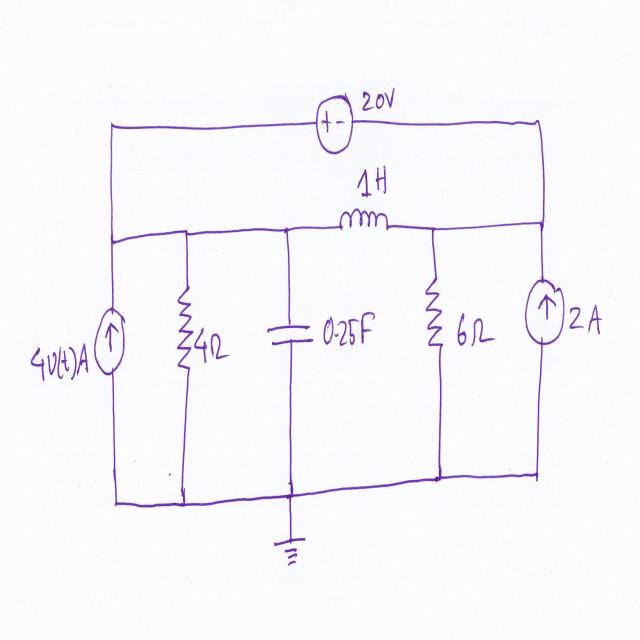capacitor: (266, 318, 314, 354)
current_source: (88, 294, 131, 389), (522, 271, 566, 353)
ground: (272, 520, 312, 574)
inductor: (336, 202, 394, 245)
resistor: (172, 274, 198, 388), (424, 270, 448, 354)
voltage_source: (312, 88, 360, 167)
